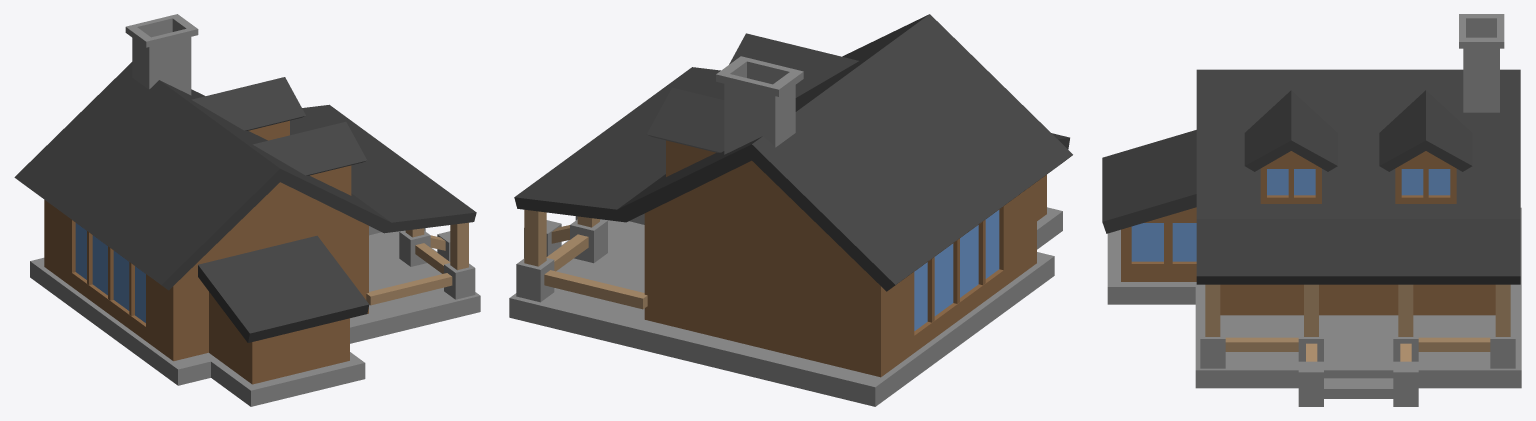
The model's file is House.glb.
3 views of the same model, side by side, from view 1: azimuth 30°, elevation 25°; view 2: azimuth 150°, elevation 25°; view 3: azimuth 270°, elevation 25° (orthographic). The views are drawn at different scales.
Parts seen in each view (by area): view 1: Cube.001, Base, Cube.010, Cube.024, Cube.005, Cube.019, Cube.025, Cube.026, Base.001, Cube.017, Cube.006, Cube.020 (+4 smaller); view 2: Cube.001, Base, Cube.010, Cube.019, Base.001, Cube.026, Cube.025, Cube.018, Cube.007, Cube.021, Cube.008, Cube.002 (+1 smaller); view 3: Cube.001, Cube.010, Base, Cube.024, Cube.025, Cube.026, Cube.019, Cube.005, Cube.029, Cube.002, Cube.003, Cube.004 (+15 smaller).
Part boxes in pixels (x1,y1,x2,y2): Cube.001: (14, 62, 476, 290); Base: (44, 182, 368, 361); Cube.010: (30, 232, 480, 406); Cube.024: (198, 235, 369, 342); Cube.005: (209, 292, 349, 384); Cube.019: (125, 14, 198, 95); Cube.025: (253, 121, 367, 175); Cube.026: (191, 77, 305, 130); Base.001: (75, 223, 145, 322); Cube.017: (366, 273, 452, 305); Cube.006: (444, 263, 475, 299); Cube.020: (450, 222, 468, 270); Cube.001: (514, 14, 1072, 291); Base: (644, 160, 1036, 377); Cube.010: (509, 207, 1062, 406); Cube.019: (716, 56, 803, 154); Base.001: (914, 210, 999, 330); Cube.026: (646, 87, 724, 152); Cube.025: (729, 33, 858, 97); Cube.018: (544, 270, 647, 309); Cube.007: (516, 258, 554, 302); Cube.021: (524, 209, 546, 266); Cube.008: (570, 219, 607, 263); Cube.002: (666, 140, 715, 176); Cube.001: (1196, 69, 1520, 284); Cube.010: (1107, 207, 1521, 388); Base: (1220, 284, 1495, 315); Cube.024: (1102, 130, 1196, 233); Cube.025: (1244, 90, 1337, 171); Cube.026: (1379, 90, 1472, 171); Cube.019: (1459, 14, 1504, 112); Cube.005: (1121, 207, 1196, 281); Cube.029: (1131, 223, 1196, 261); Cube.002: (1395, 151, 1456, 203); Cube.003: (1260, 151, 1321, 203); Cube.004: (1324, 378, 1393, 398).
Bounding box in the file's own units: 6.54 × 4.15 × 6.1.
